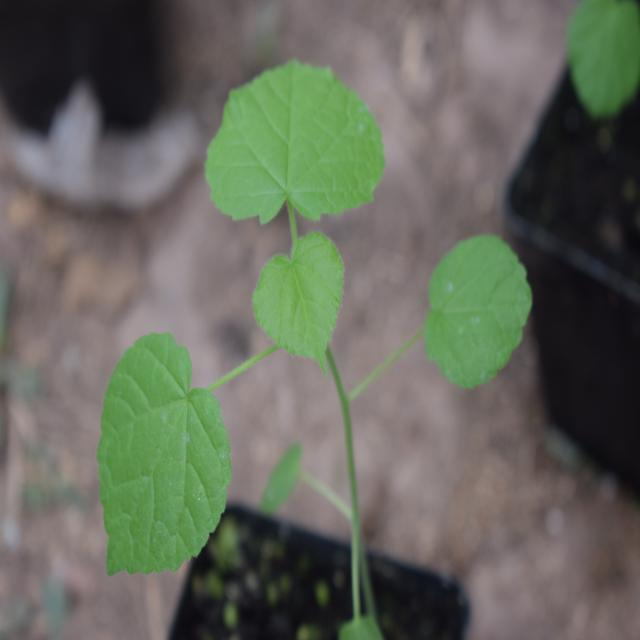abutilon theophrasti: (99, 39, 548, 588)
